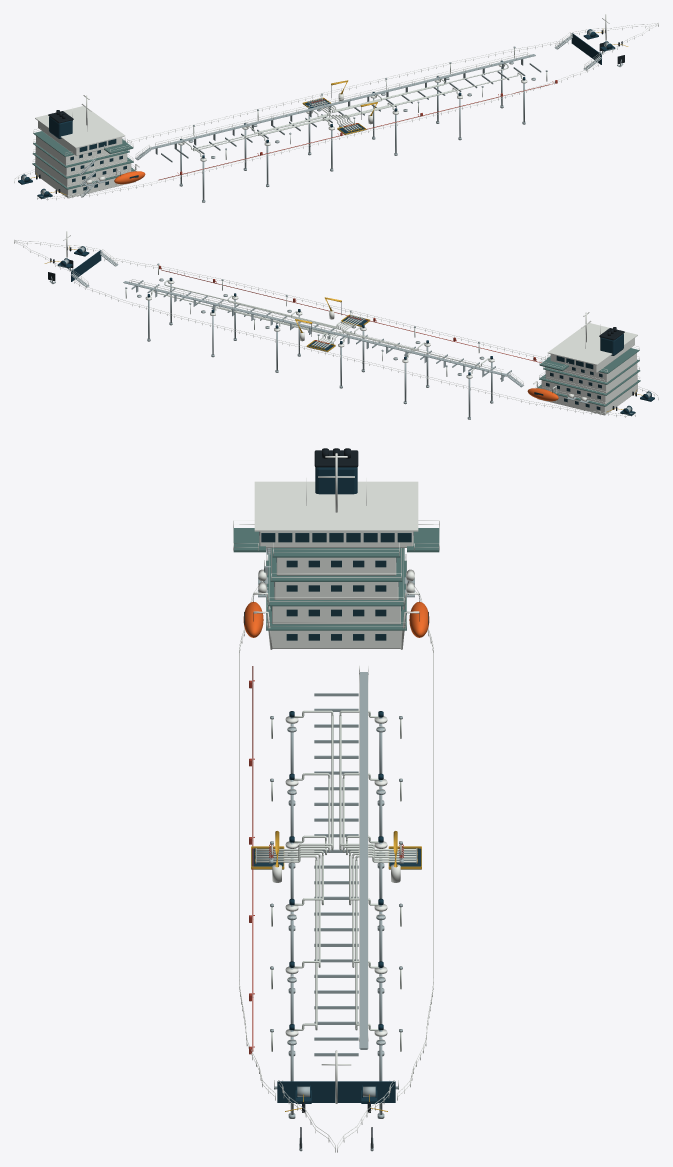
The model's file is stability_fittings.glb.
3 renders of one model, top to bottom at view 1: azimuth 30°, elevation 25°; view 2: azimuth 150°, elevation 25°; view 3: azimuth 270°, elevation 25°, orthographic. The views are drawn at different scales.
Visible parts, largest first — view 1: Accommodation_far_structure_5, Walkway_far_cover_786, Accommodation_far_structure_1, Accommodation_far_structure_2, Accommodation_far_structure_0, Accommodation_far_structure_3, Accommodation_far_structure_4, Railings_far_structure_329, Railings_far_structure_328, FireSystem_far_structure_18, Railings_far_structure_421, Railings_far_structure_420 (+11 smaller); view 2: Accommodation_far_structure_5, Walkway_far_cover_786, Accommodation_far_structure_1, Accommodation_far_structure_2, Accommodation_far_structure_0, Accommodation_far_structure_3, Accommodation_far_structure_4, Railings_far_structure_421, Railings_far_structure_420, FireSystem_far_structure_18, Railings_far_structure_329, Railings_far_structure_328 (+11 smaller); view 3: Accommodation_far_structure_5, Walkway_far_cover_786, Accommodation_far_structure_0, Accommodation_far_structure_1, Forecastle_far_structure_31, Accommodation_far_structure_2, Accommodation_far_structure_3, Accommodation_far_structure_4, Accommodation_far_structure_7, Accommodation_far_structure_9, Accommodation_far_structure_6, Accommodation_far_structure_8 (+1 smaller).
Boxes of the visible parts, left/top/right/bottom form: Accommodation_far_structure_5: left=35, top=106, right=125, bottom=148; Walkway_far_cover_786: left=149, top=54, right=535, bottom=149; Accommodation_far_structure_1: left=35, top=156, right=131, bottom=187; Accommodation_far_structure_2: left=35, top=146, right=127, bottom=176; Accommodation_far_structure_0: left=35, top=166, right=134, bottom=198; Accommodation_far_structure_3: left=36, top=136, right=123, bottom=165; Accommodation_far_structure_4: left=38, top=121, right=122, bottom=155; Railings_far_structure_329: left=37, top=63, right=598, bottom=197; Railings_far_structure_328: left=37, top=65, right=597, bottom=199; FireSystem_far_structure_18: left=159, top=83, right=552, bottom=179; Railings_far_structure_421: left=14, top=41, right=562, bottom=179; Railings_far_structure_420: left=15, top=42, right=567, bottom=180; Accommodation_far_structure_5: left=547, top=323, right=637, bottom=365; Walkway_far_cover_786: left=123, top=281, right=509, bottom=376; Accommodation_far_structure_1: left=541, top=373, right=637, bottom=404; Accommodation_far_structure_2: left=545, top=363, right=637, bottom=393; Accommodation_far_structure_0: left=538, top=383, right=637, bottom=415; Accommodation_far_structure_3: left=549, top=353, right=636, bottom=382; Accommodation_far_structure_4: left=550, top=338, right=634, bottom=372; Railings_far_structure_421: left=74, top=280, right=635, bottom=414; Railings_far_structure_420: left=75, top=282, right=635, bottom=416; FireSystem_far_structure_18: left=161, top=270, right=541, bottom=362; Railings_far_structure_329: left=110, top=258, right=658, bottom=396; Railings_far_structure_328: left=105, top=259, right=657, bottom=397; Accommodation_far_structure_5: left=254, top=481, right=418, bottom=531; Walkway_far_cover_786: left=359, top=672, right=368, bottom=1048; Accommodation_far_structure_0: left=270, top=630, right=402, bottom=648; Accommodation_far_structure_1: left=272, top=606, right=400, bottom=624; Forecastle_far_structure_31: left=277, top=1081, right=395, bottom=1102; Accommodation_far_structure_2: left=274, top=582, right=398, bottom=599; Accommodation_far_structure_3: left=276, top=557, right=396, bottom=575; Accommodation_far_structure_4: left=259, top=531, right=413, bottom=547; Accommodation_far_structure_7: left=268, top=548, right=404, bottom=606; Accommodation_far_structure_9: left=272, top=548, right=400, bottom=557; Accommodation_far_structure_6: left=266, top=560, right=406, bottom=630; Accommodation_far_structure_8: left=270, top=548, right=402, bottom=581.
Bounding box in the file's own units: 198 × 36.94 × 27.88.
